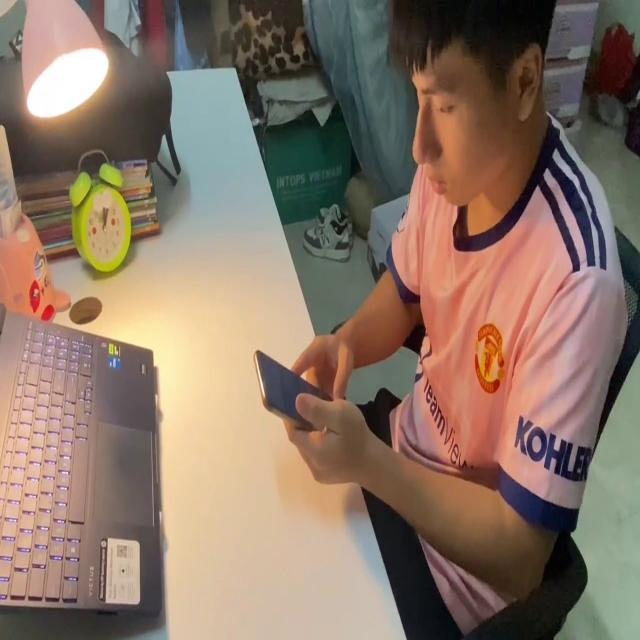laptop: (0, 296, 166, 622)
phone: (254, 341, 336, 432)
student: (282, 0, 625, 628)
